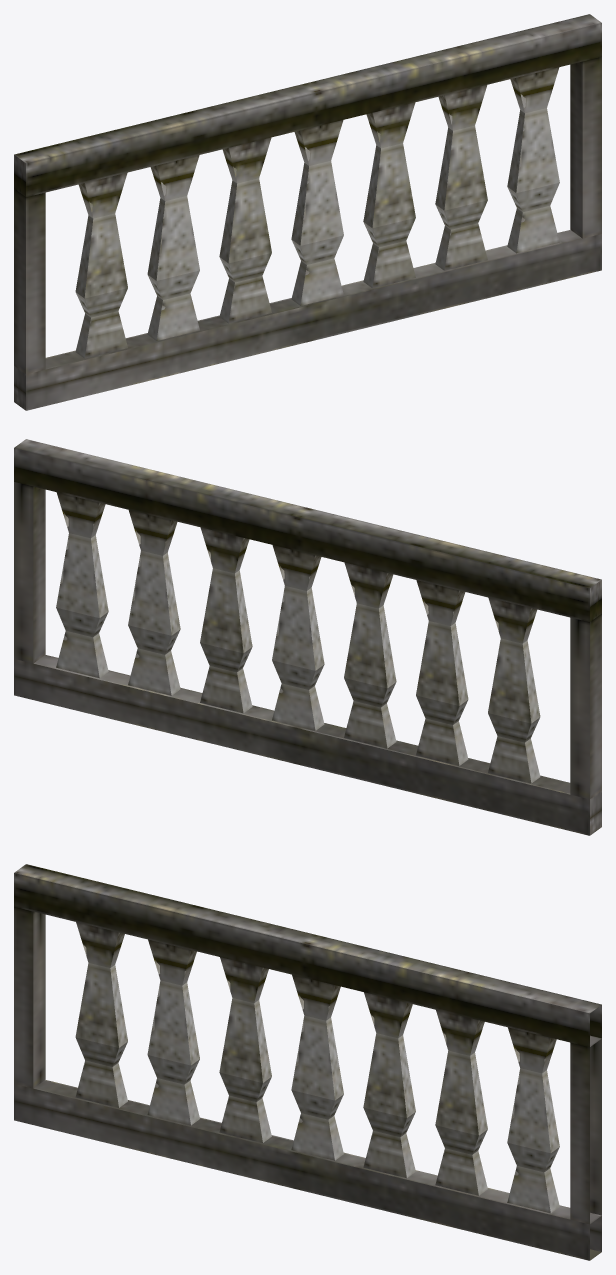
File: Railing01.obj
3 renders of one model, top to bottom at view 1: azimuth 30°, elevation 25°; view 2: azimuth 150°, elevation 25°; view 3: azimuth 330°, elevation 25°, orthographic.
Parts seen in each view (by area): view 1: Railing01; view 2: Railing01; view 3: Railing01.
Boxes of the visible parts, x1,y1,x2,y2 form: Railing01: (14, 14, 601, 410); Railing01: (14, 439, 601, 835); Railing01: (14, 864, 601, 1260).
Size of the model in its own units: 3 by 1.23 by 0.1091.
